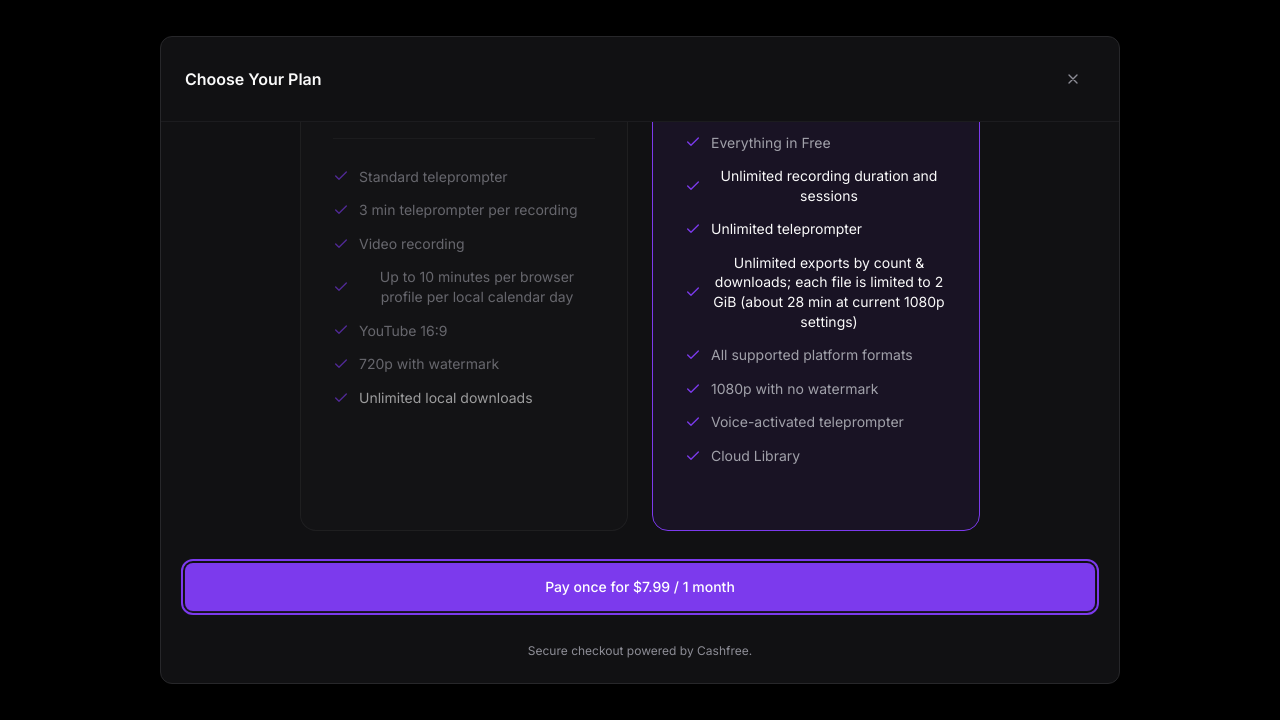
Test: PricingModal — accessible name tracks the visible step title › step 2 (form): the name changes with the heading, not a stale "Choose Plan"
(page scrolled)
Check: the heading "Choose Your Plan" is shown, box [185,67,322,91]
Click the button "Pay once for $7.99 / 1 month": (640, 587) [185,563,1095,611]
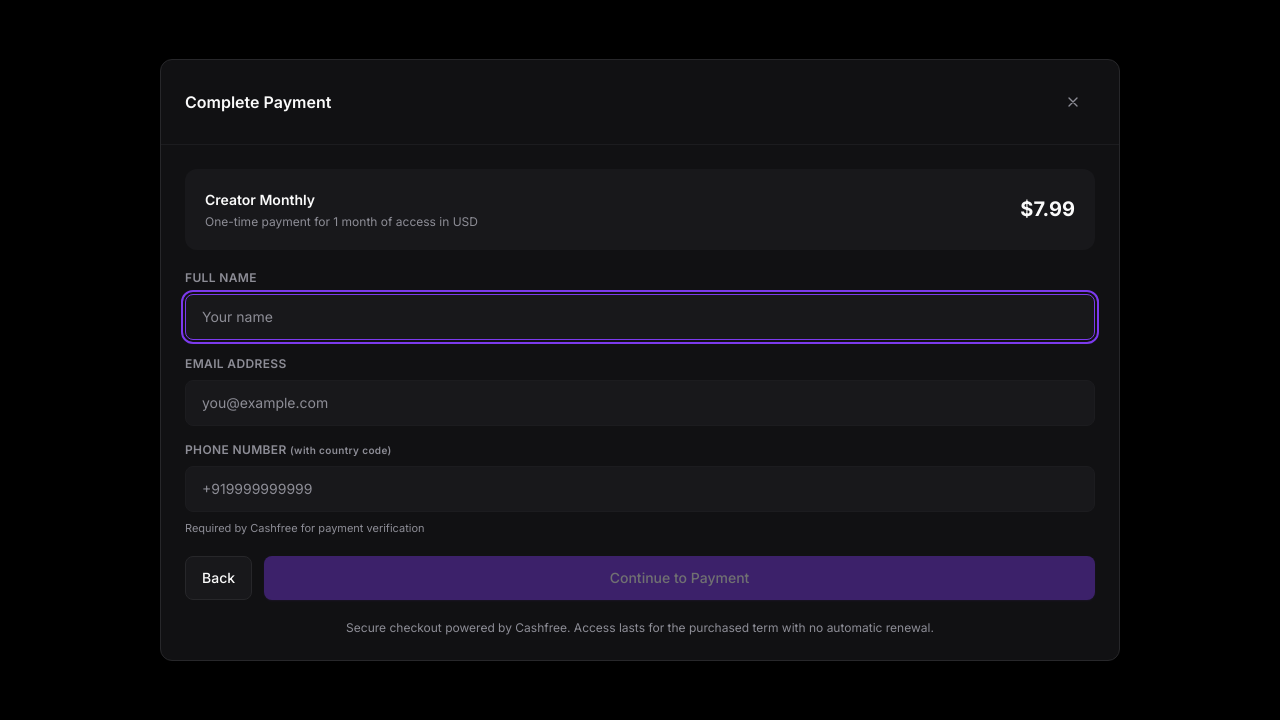
Check: the dialog "Complete Payment" is shown
Check: the heading "Complete Payment" is shown, box [185,90,331,114]
